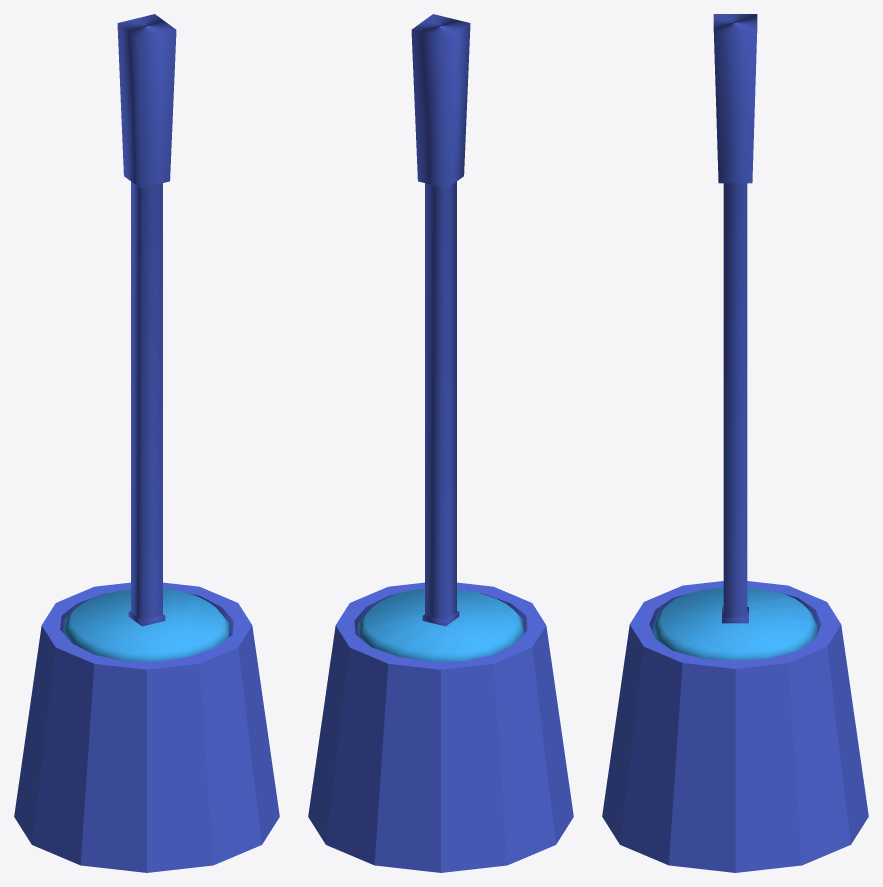
The model's file is toilet-brush.fbx.
The picture shows the model from 3 angles, left to right: view 1: azimuth 30°, elevation 25°; view 2: azimuth 150°, elevation 25°; view 3: azimuth 270°, elevation 25°; orthographic projection.
Parts seen in each view (by area): view 1: Cube.002, Cube; view 2: Cube.002, Cube; view 3: Cube.002, Cube.
Boxes of the visible parts, <box> form: Cube.002: <box>14,582,279,872</box>; Cube: <box>64,14,229,661</box>; Cube.002: <box>308,582,573,872</box>; Cube: <box>358,14,523,661</box>; Cube.002: <box>602,581,868,872</box>; Cube: <box>653,14,817,660</box>.
Size of the model in its own units: 326 by 1071 by 326.
